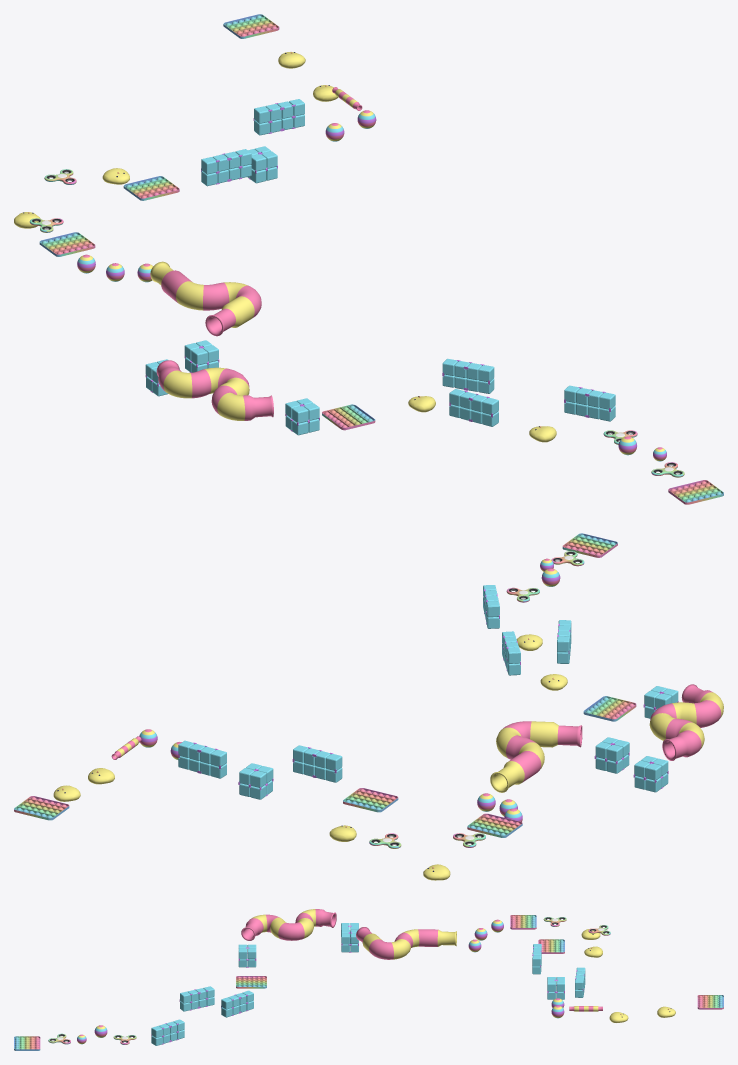
3 renders of one model, top to bottom at view 1: azimuth 30°, elevation 25°; view 2: azimuth 150°, elevation 25°; view 3: azimuth 270°, elevation 25°, orthographic. The views are drawn at different scales.
Parts seen in each view (by area): view 1: Cylinder.005, Cylinder.008, Cube.005, Cube.003, Cube.013, Cube.014, Cube.004, Cube.007, Cube.010, Cube.016, Cube.011, Cube.012 (+3 smaller); view 2: Cylinder.008, Cylinder.005, Cube.014, Cube.013, Cube.008, Cube.010, Cube.015, Cube.011, Cube.016, Cube.012, Cube.002, Cube.006 (+4 smaller); view 3: Cylinder.008, Cylinder.005, Cube.004, Cube.003, Cube.005, Cube.007, Cube.010, Cube.015, Cube.002, Cube.011, Cube.016, Cube.006 (+3 smaller).
Part boxes in pixels (x1=…): Cylinder.005: x1=156, y1=360, x2=273, y2=420; Cylinder.008: x1=150, y1=261, x2=261, y2=336; Cube.005: x1=442, y1=358, x2=494, y2=393; Cube.003: x1=564, y1=385, x2=615, y2=421; Cube.013: x1=253, y1=99, x2=304, y2=135; Cube.014: x1=201, y1=149, x2=251, y2=186; Cube.004: x1=449, y1=389, x2=498, y2=426; Cube.007: x1=285, y1=398, x2=319, y2=435; Cube.010: x1=184, y1=340, x2=219, y2=372; Cube.016: x1=223, y1=14, x2=279, y2=38; Cube.011: x1=39, y1=232, x2=95, y2=256; Cube.012: x1=123, y1=176, x2=179, y2=200; Cylinder.008: x1=490, y1=721, x2=582, y2=792; Cylinder.005: x1=649, y1=684, x2=723, y2=760; Cube.014: x1=292, y1=745, x2=342, y2=782; Cube.013: x1=178, y1=740, x2=226, y2=778; Cube.008: x1=633, y1=756, x2=668, y2=792; Cube.010: x1=594, y1=737, x2=629, y2=773; Cube.015: x1=238, y1=763, x2=273, y2=799; Cube.011: x1=467, y1=813, x2=522, y2=837; Cube.016: x1=14, y1=796, x2=69, y2=820; Cube.012: x1=343, y1=788, x2=398, y2=812; Cube.002: x1=562, y1=533, x2=617, y2=557; Cube.006: x1=583, y1=696, x2=636, y2=721; Cylinder.008: x1=356, y1=927, x2=456, y2=959; Cylinder.005: x1=241, y1=909, x2=336, y2=940; Cube.004: x1=179, y1=986, x2=214, y2=1011; Cube.003: x1=151, y1=1019, x2=184, y2=1045; Cube.005: x1=221, y1=990, x2=253, y2=1017; Cube.007: x1=238, y1=944, x2=256, y2=967; Cube.010: x1=341, y1=929, x2=358, y2=952; Cube.015: x1=547, y1=977, x2=564, y2=999; Cube.002: x1=14, y1=1036, x2=40, y2=1050; Cube.011: x1=510, y1=915, x2=536, y2=929; Cube.016: x1=697, y1=995, x2=723, y2=1009; Cube.006: x1=236, y1=976, x2=266, y2=988.
Size of the model in its own units: 4875 by 1279 by 11040.
